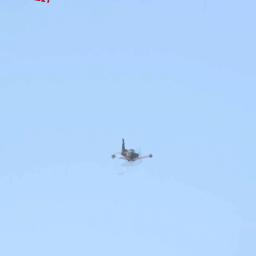Airplane: (112, 137, 153, 164)
